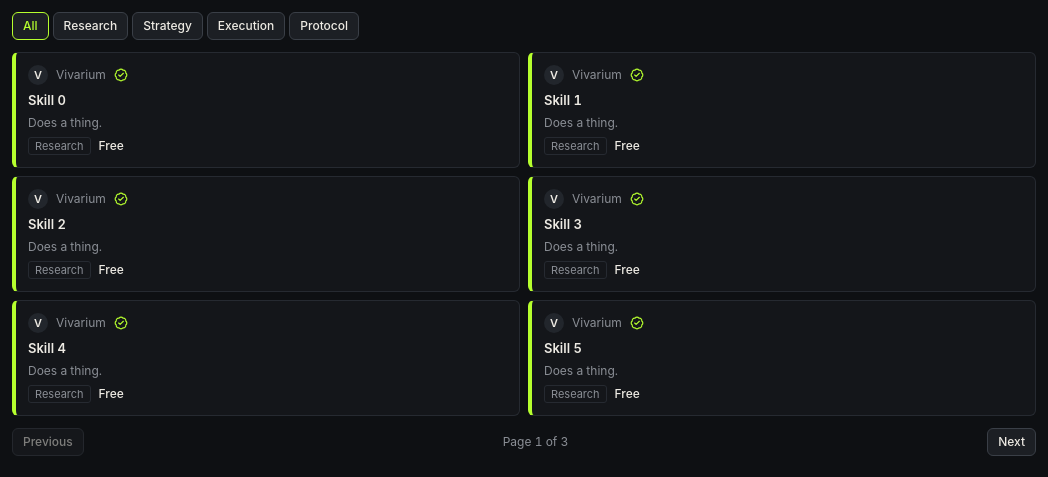
it: SkillCatalog pages (2026-10-13) › shows two columns of six per page with Previous, Next and the page count
Expected: the number of buttons with test id "skill-card" is 6, [12,52,520,168]; [528,52,1036,168]; [12,176,520,292]; [528,176,1036,292]; [12,300,520,416]; [528,300,1036,416]
Expected: the element with test id "skill-pages" shows "Page 1 of 3", [12,428,1036,456]
Click the button "Next" at point(1012, 442), box [987,428,1036,456]
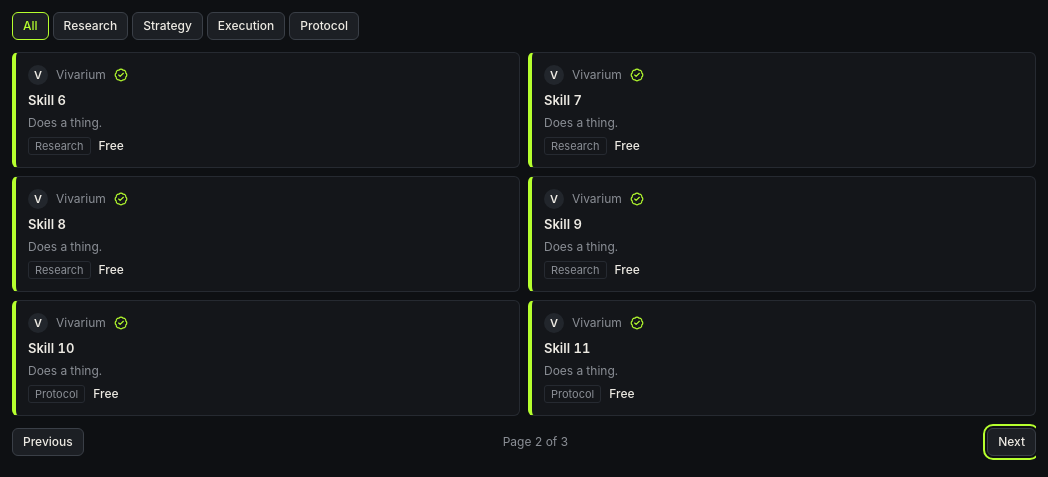
Click the button "Next" at point(1012, 442), box [987,428,1036,456]
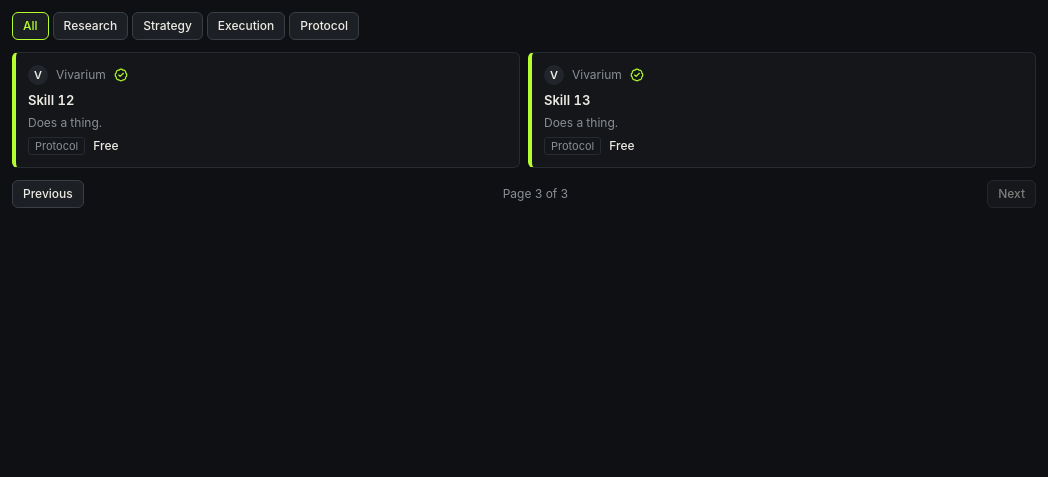
Expected: the element with test id "skill-pages" shows "Page 3 of 3", [12,180,1036,208]
Expected: the number of buttons with test id "skill-card" is 2, [12,52,520,168]; [528,52,1036,168]
# A filter starts again at its first page.
Click the button with test id "skill-filter-Protocol" at point(324, 26), box [289,12,359,40]
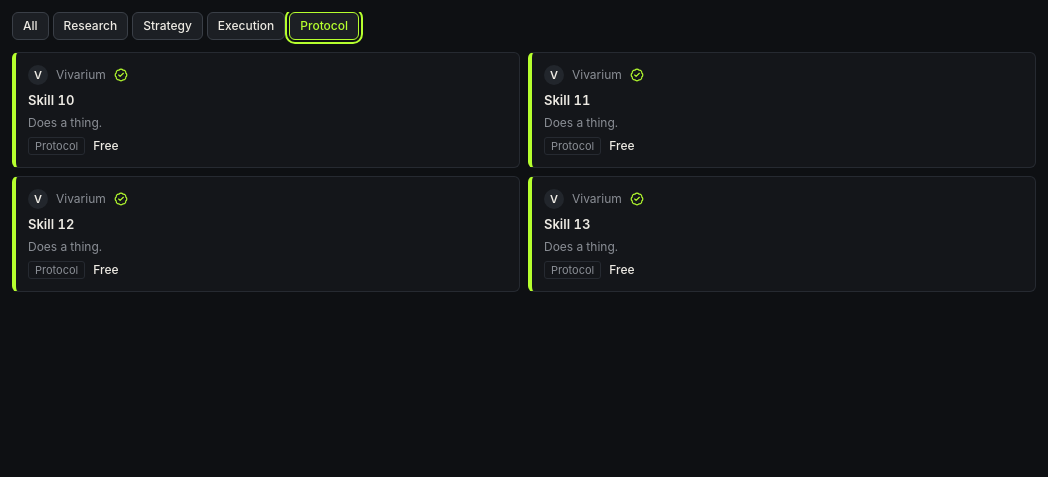
Expected: the number of buttons with test id "skill-card" is 4, [12,52,520,168]; [528,52,1036,168]; [12,176,520,292]; [528,176,1036,292]
Expected: the element with test id "skill-pages" is gone
